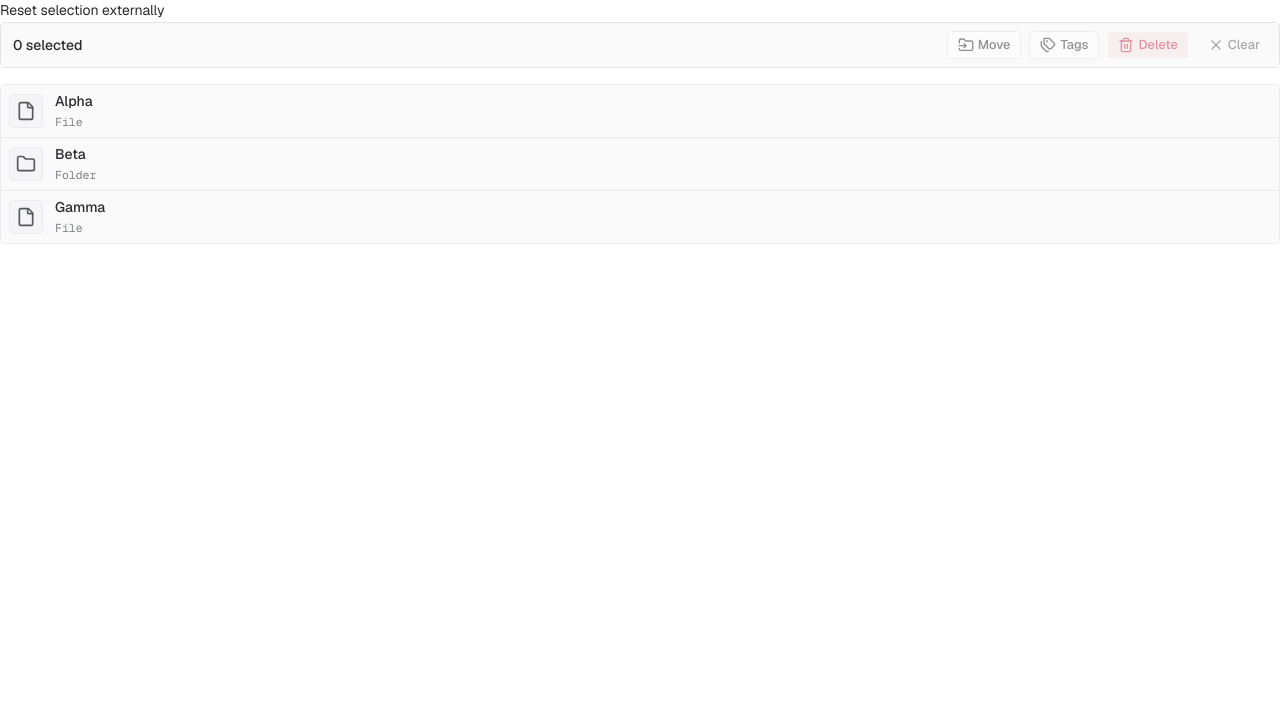
it: LibraryContent desktop selection › disables moving when the destination is the current parent
Click the button "Alpha File" at (74, 101), box [55,89,1271,133]
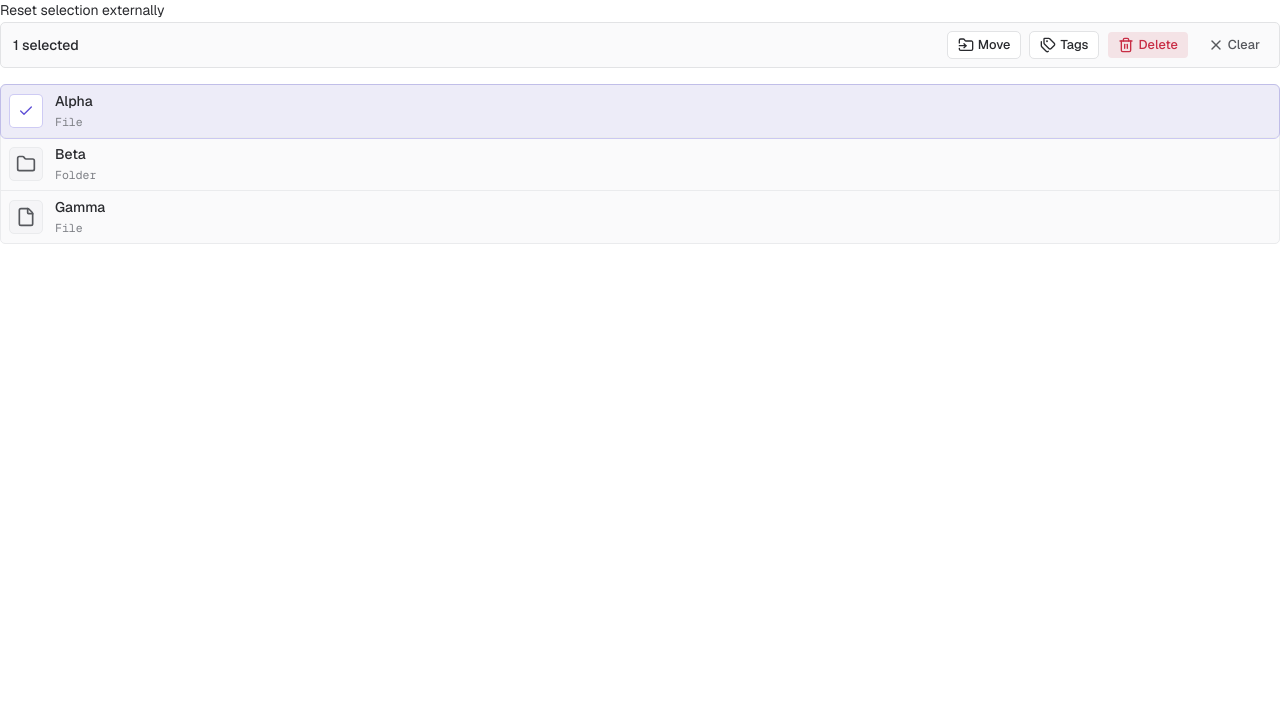
Click the button "Move" at (984, 45), box [947,31,1022,59]
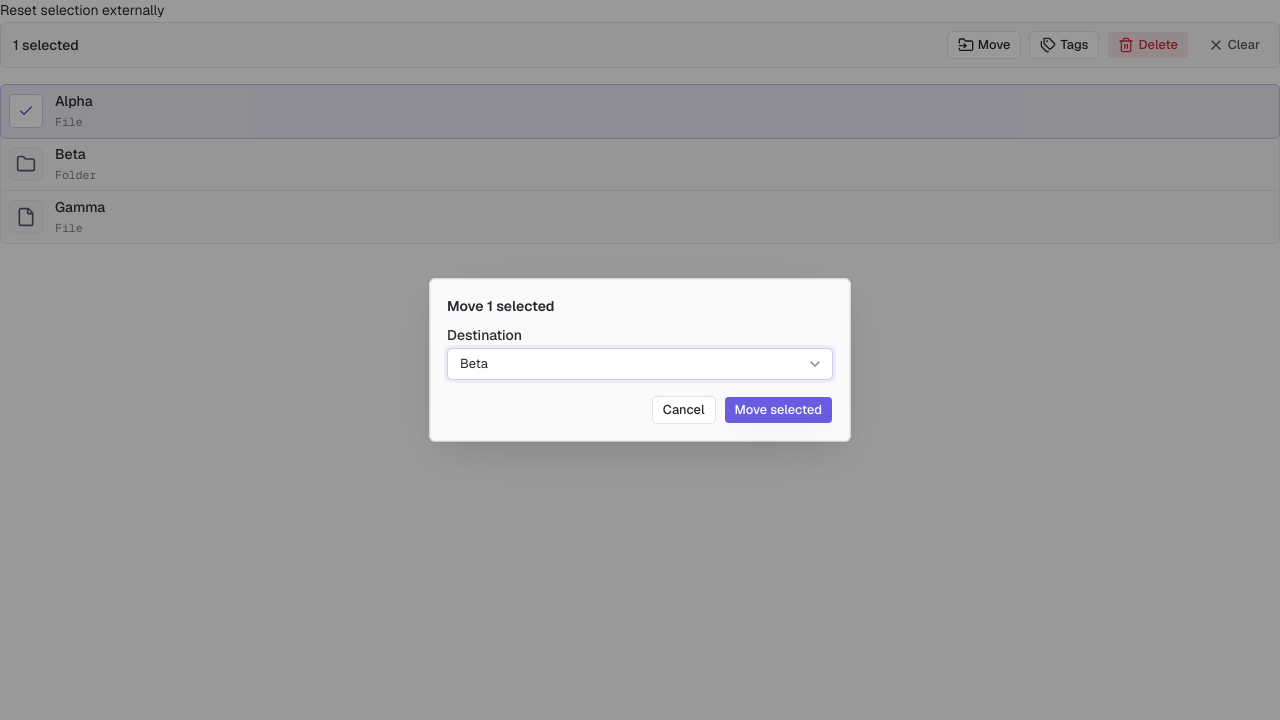
Select "Workspace" in the dropdown labelled "Destination" at (640, 364), box [447,348,833,380]
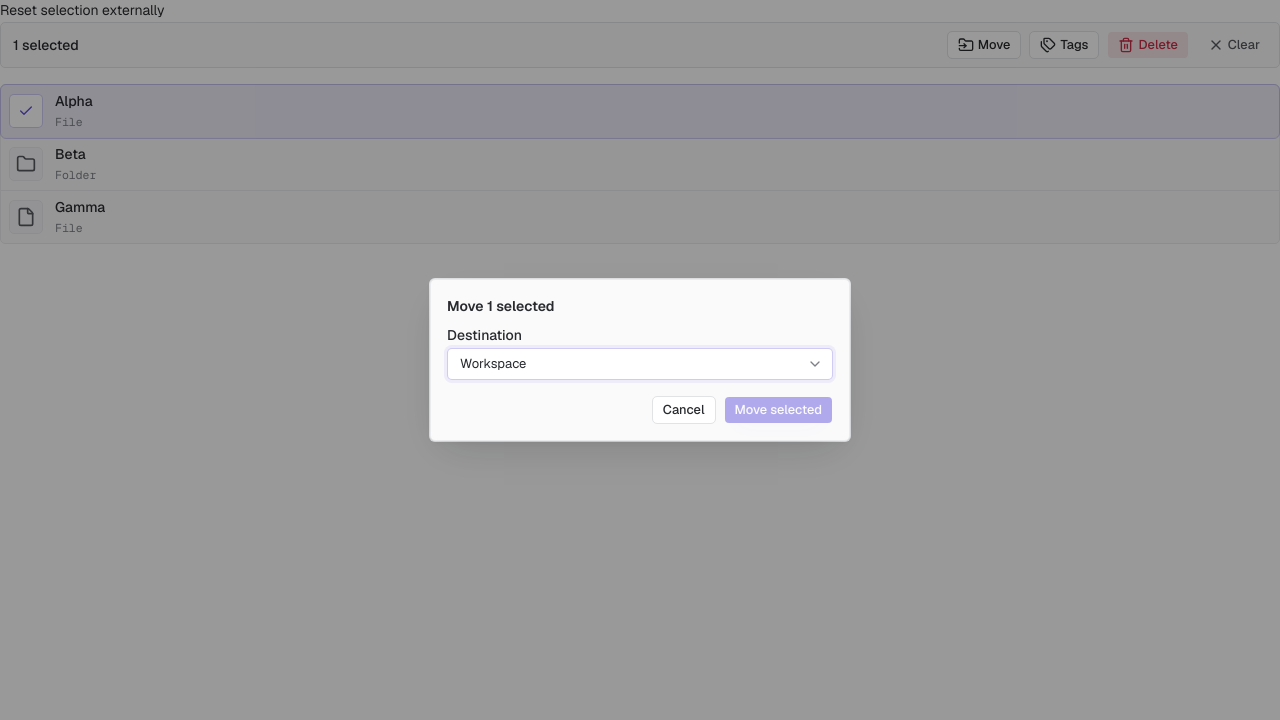
Expected: the button "Move selected" is disabled, [724,396,833,424]
Select "Beta" in the dropdown labelled "Destination" at (640, 364), box [447,348,833,380]
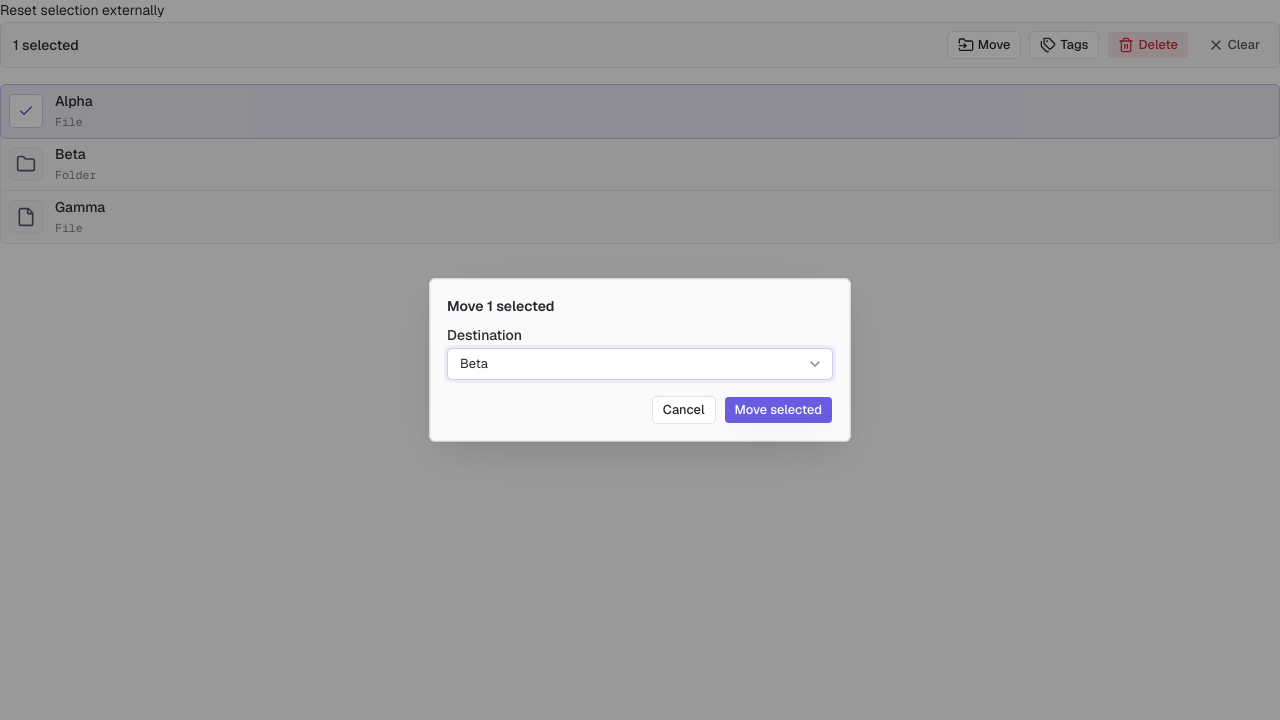
Expected: the button "Move selected" is enabled, [724,396,833,424]
